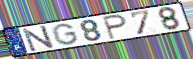7: (129, 9, 152, 36)
8: (157, 6, 182, 32), (80, 19, 103, 42)
G: (51, 22, 81, 46)
N: (22, 24, 56, 53)
P: (102, 13, 129, 41)
